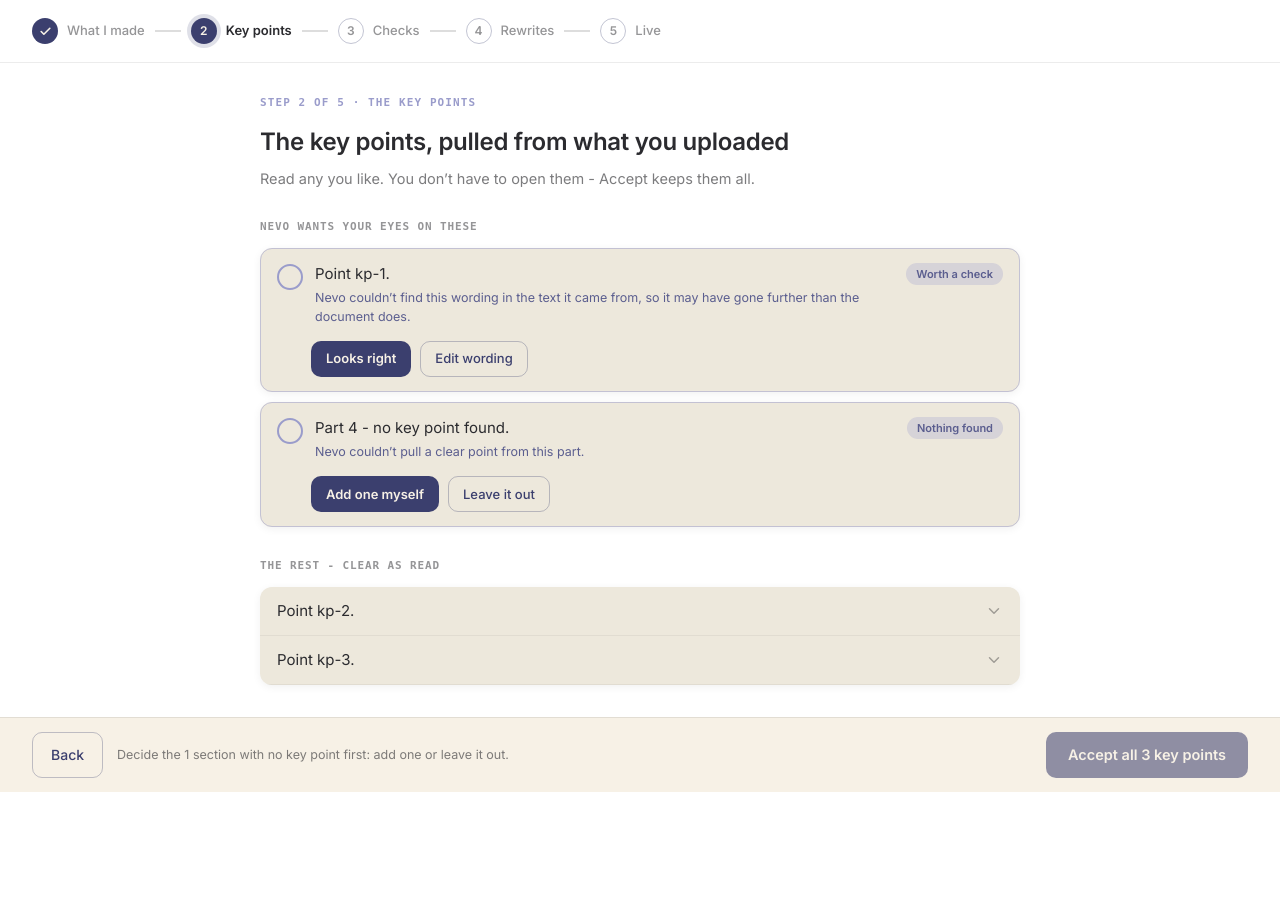
the key points › writes 'Leave it out' straight back
expect the navigation bar named "Lesson review steps" is shown: met, box [0,0,1279,63]
Click the button "Leave it out" at x=499, y=494, box [448,476,550,512]
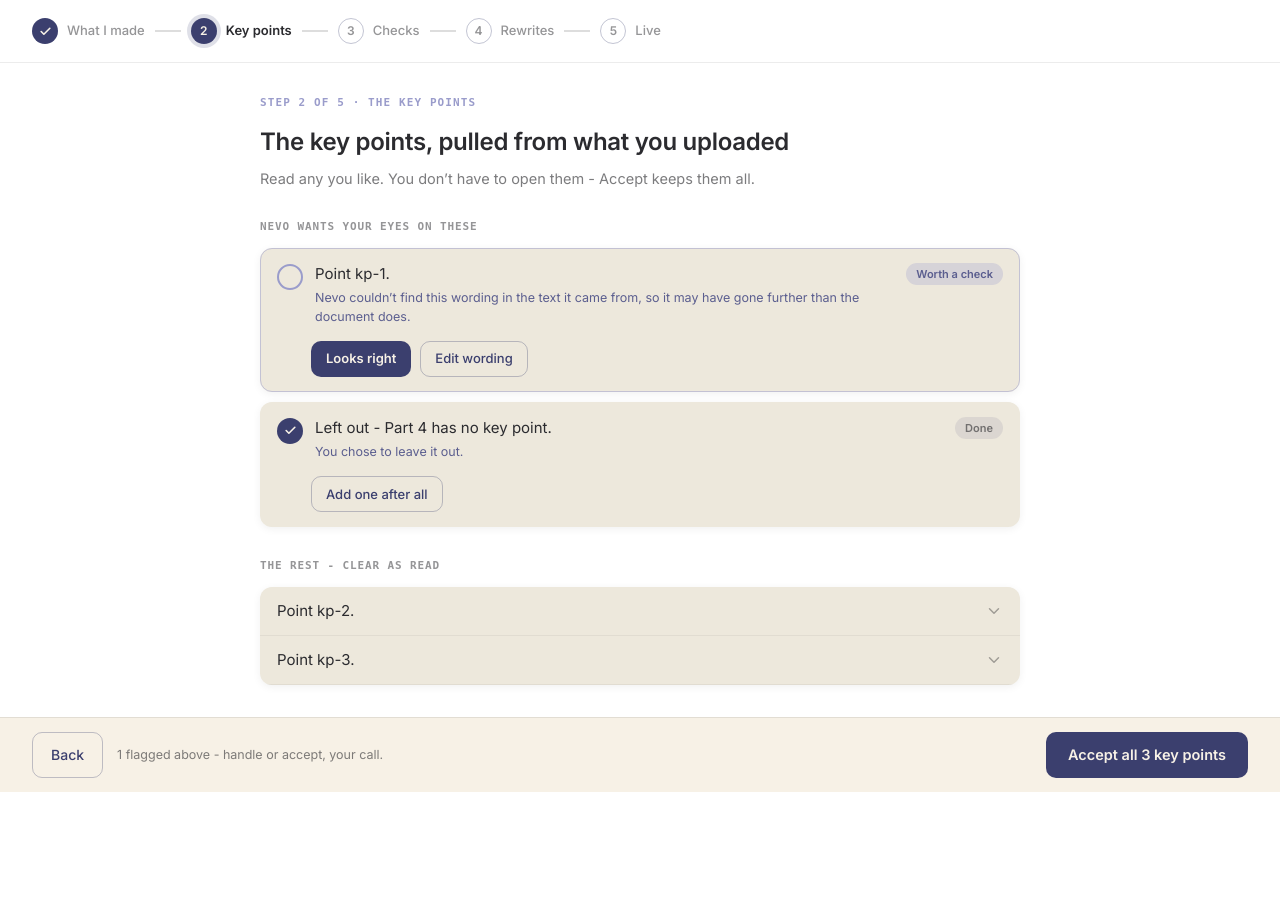
expect the text "Left out - Part 4 has no key point." is shown: met, box [315,418,552,437]
expect the button "Add one after all" is shown: met, box [311,476,443,512]
